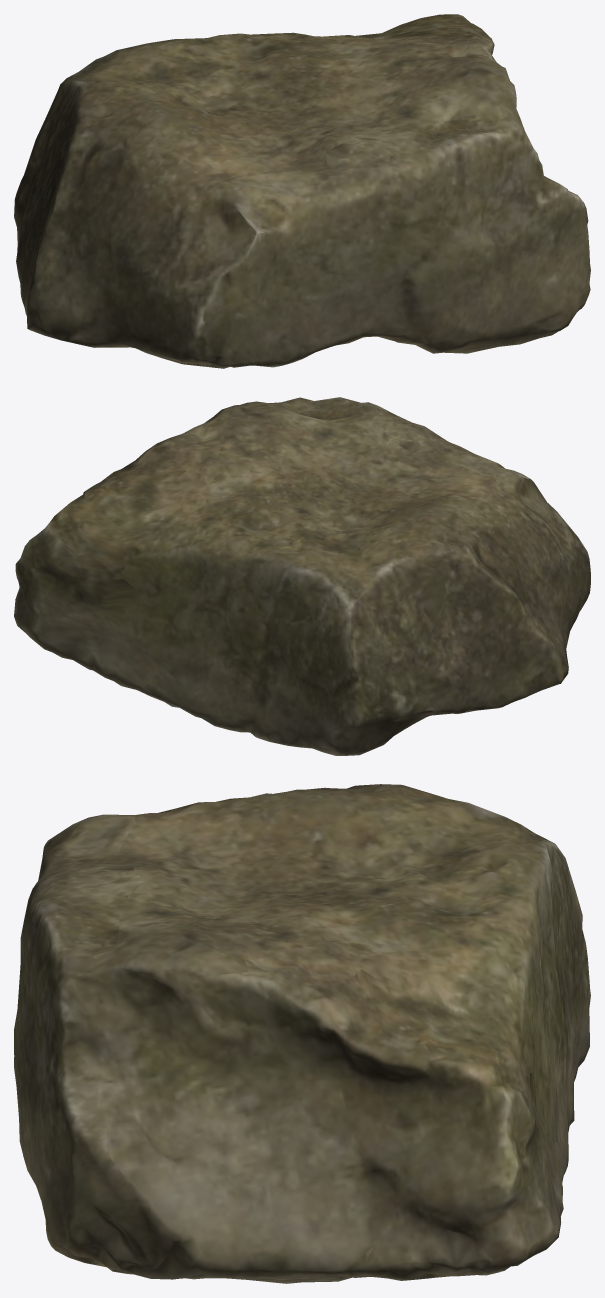
File: Scan_MossStone_A.fbx
The picture shows the model from 3 angles, top to bottom: view 1: azimuth 30°, elevation 25°; view 2: azimuth 150°, elevation 25°; view 3: azimuth 270°, elevation 25°; orthographic projection. The views are drawn at different scales.
Parts seen in each view (by area): view 1: Scan_MossStone_A_LOD0; view 2: Scan_MossStone_A_LOD0; view 3: Scan_MossStone_A_LOD0.
Boxes of the visible parts, <box> form: Scan_MossStone_A_LOD0: <box>14,14,590,368</box>; Scan_MossStone_A_LOD0: <box>14,397,590,755</box>; Scan_MossStone_A_LOD0: <box>14,784,590,1283</box>.
Size of what is drawn, in the model's own units: 1.69 by 0.7448 by 1.21.
